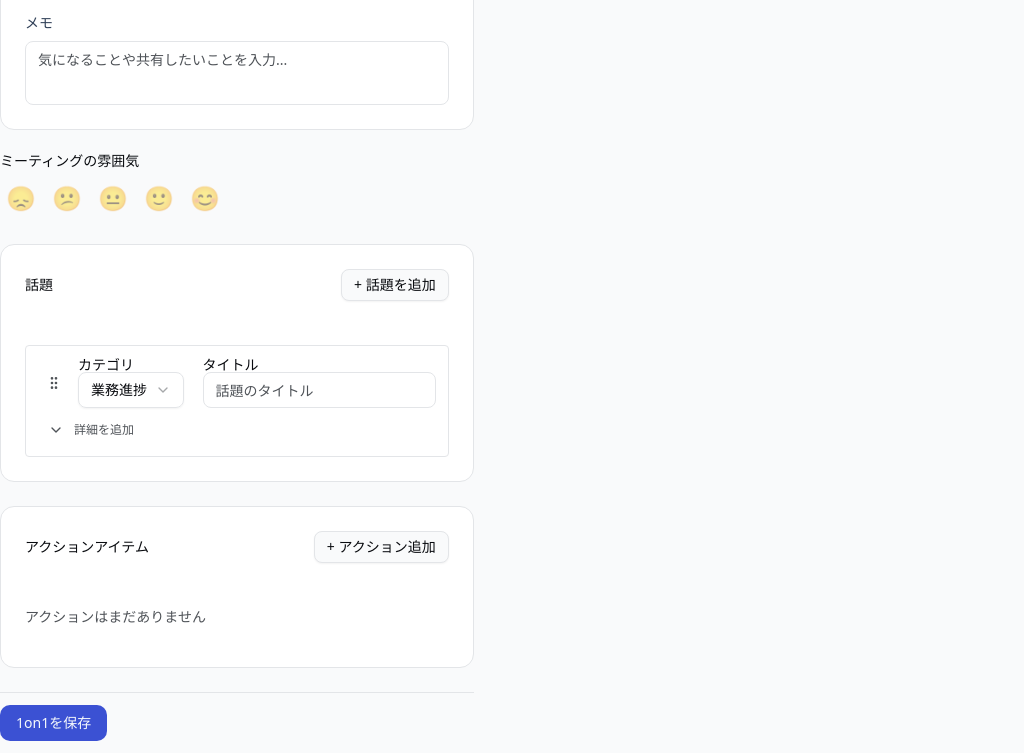
Test: MeetingForm › shows ClosingDialog when header save button is clicked
The width and height of the screenshot is (1024, 753).
(page scrolled)
Type "テスト話題" into the field with placeholder "話題のタイトル". click: (319, 390)
box: 203,372 -> 436,408
(page scrolled)
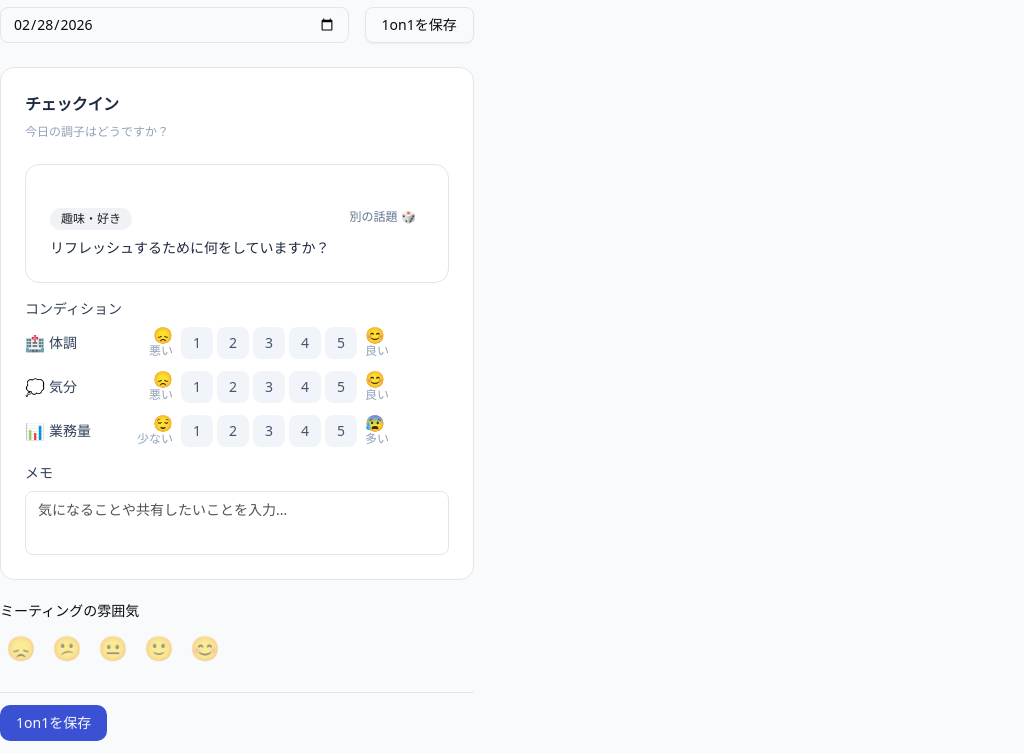
Click header save button (first one)
Click the 1st button "1on1を保存". click: (419, 25)
box: 365,7 -> 474,43
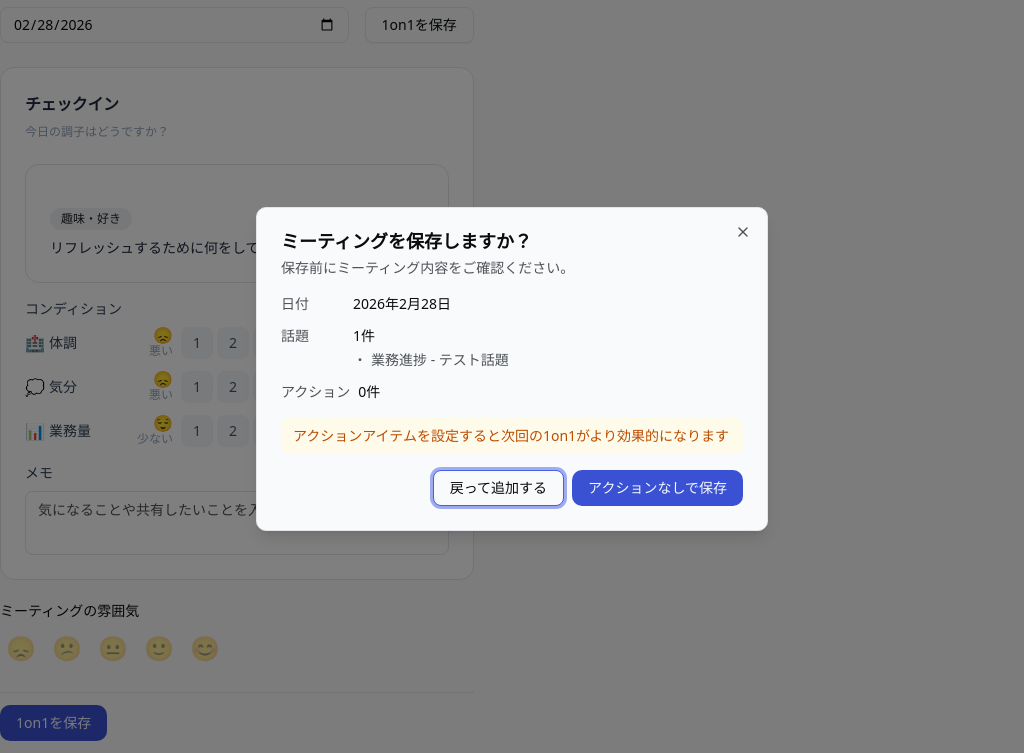
Expected: the heading "ミーティングを保存しますか？" is shown, 281,229 -> 532,253
